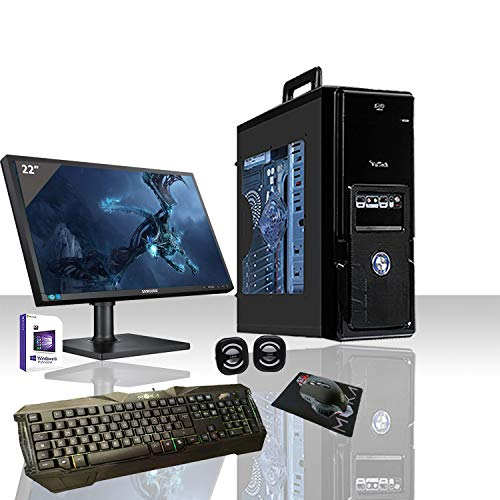Teclado: (15, 384, 269, 493)
